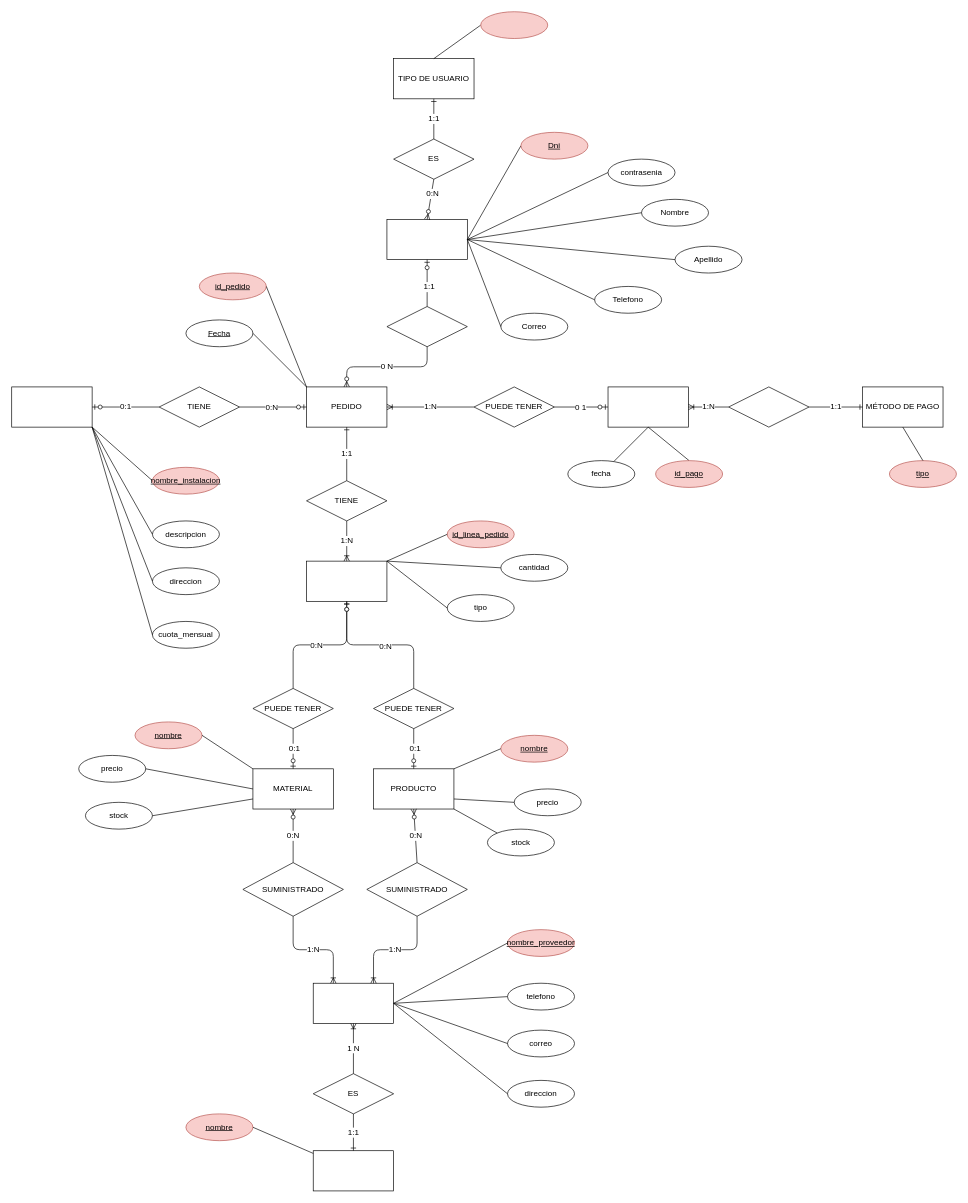
Some shapes in this 968 by 1203 pixel diagram are drawn without their labels. The centre of each missing label's shape, as x and y in pixels:
INSTALACIÓN: [51,406]
LINEA_PEDIDO: [346,580]
nombre_tipo: [514,25]
PAGO: [647,406]
PROVEEDOR: [353,1003]
PUEDE HACER: [426,326]
SE HACE CON: [768,406]
TIPO DE PROVEEDOR: [353,1170]
USUARIO: [426,239]
